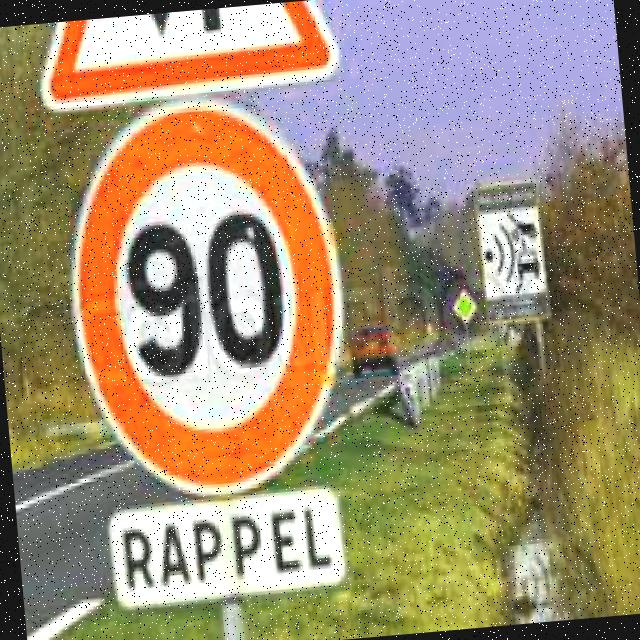Ograniczenie predkosci do 90: (53, 90, 351, 507)
